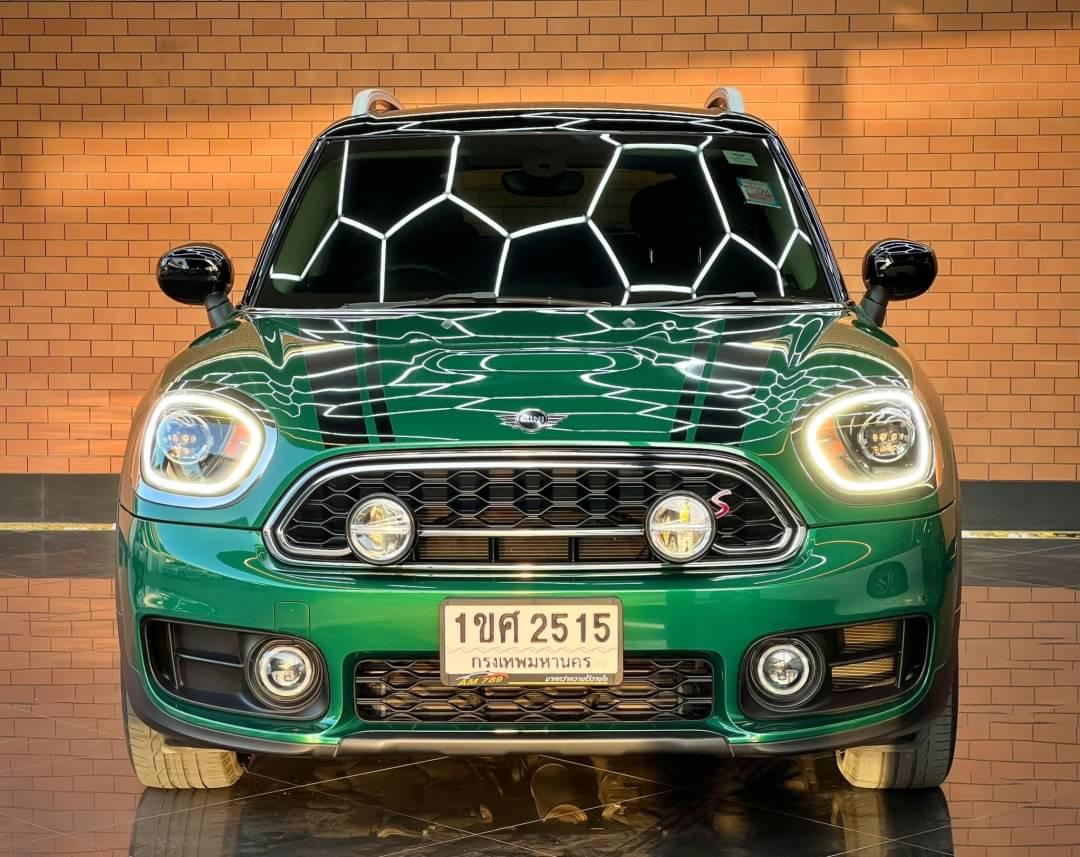license-plate: (437, 597, 625, 688)
